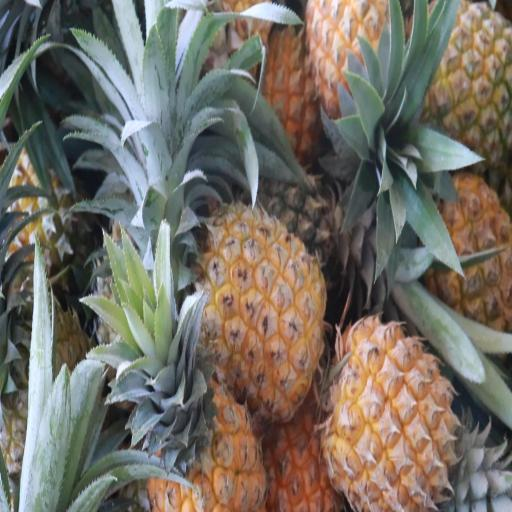Pineapple - v8 v1: (204, 208, 326, 417), (328, 310, 453, 512), (129, 333, 265, 512), (415, 156, 512, 319), (307, 0, 404, 149), (419, 0, 512, 142)
